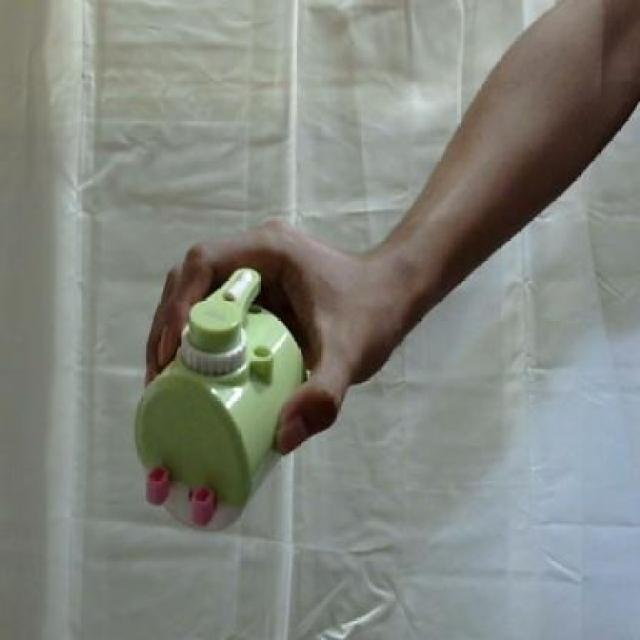Plastic: (133, 268, 310, 536)
